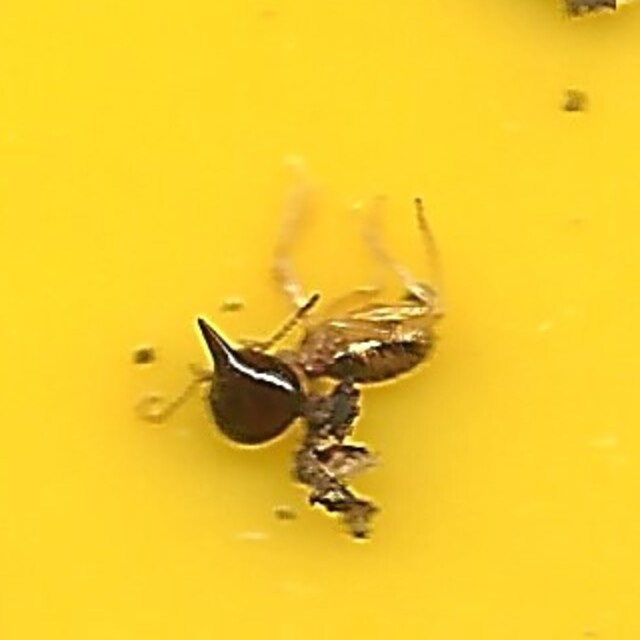Isoptera: (200, 195, 440, 445)
